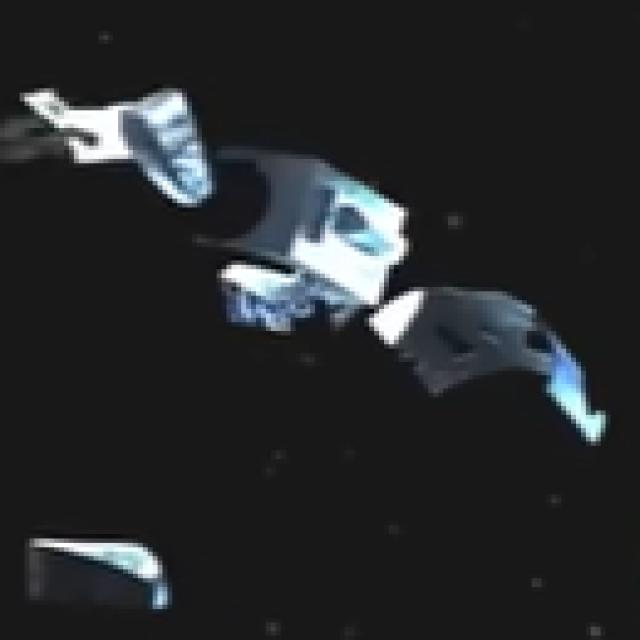large_debris: (1, 70, 622, 478), (12, 520, 185, 627)
